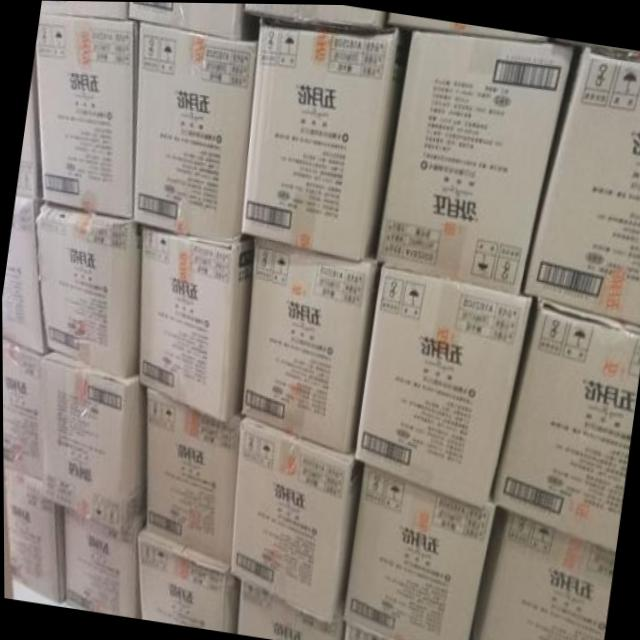box: (374, 30, 573, 293), (354, 265, 531, 508), (240, 22, 407, 262), (492, 295, 640, 553), (522, 45, 640, 326), (241, 237, 374, 453), (230, 414, 364, 627), (132, 23, 258, 243), (342, 462, 495, 640), (139, 227, 255, 423), (36, 13, 133, 220), (40, 351, 145, 533), (34, 201, 141, 379), (479, 510, 615, 640), (145, 386, 241, 567), (138, 528, 239, 634), (63, 507, 137, 618), (3, 469, 59, 603), (236, 581, 346, 640), (2, 197, 43, 355), (2, 338, 41, 480), (388, 11, 545, 42), (129, 2, 245, 40), (243, 3, 385, 29), (15, 77, 38, 201), (40, 0, 127, 19), (343, 621, 389, 640)
